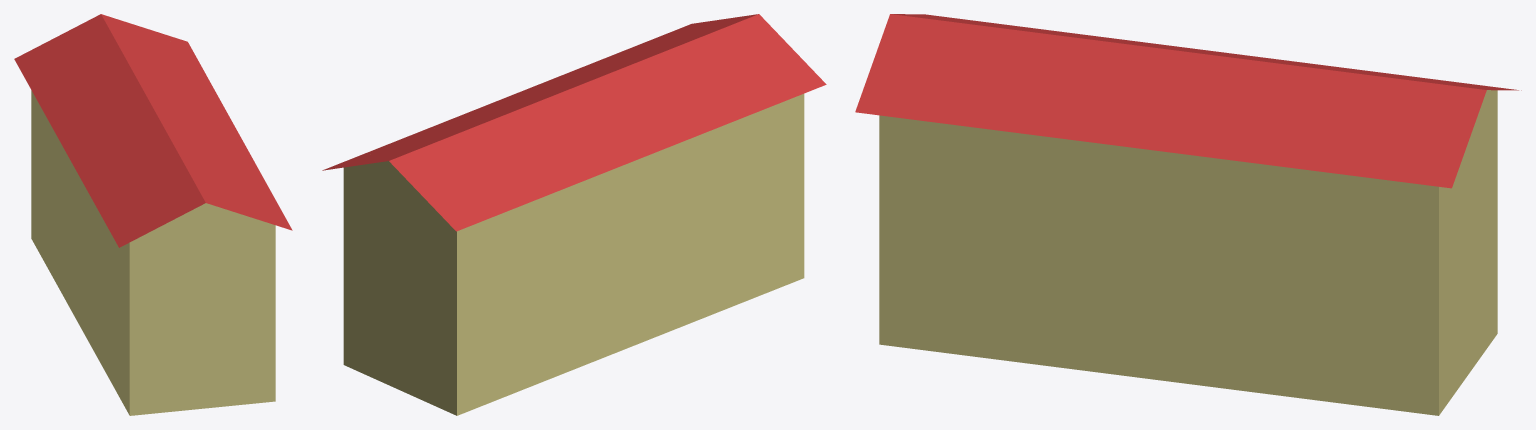
3 renders of one model, left to right at view 1: azimuth 30°, elevation 25°; view 2: azimuth 150°, elevation 25°; view 3: azimuth 270°, elevation 25°, orthographic. The views are drawn at different scales.
Parts seen in each view (by area): view 1: group_5, group_3, group_4; view 2: group_5, group_3, group_4; view 3: group_5, group_3, group_4.
Part boxes in pixels (bbox=[...]): group_5: bbox=[31, 90, 275, 415]; group_3: bbox=[14, 14, 292, 234]; group_4: bbox=[15, 14, 291, 247]; group_5: bbox=[343, 94, 804, 415]; group_3: bbox=[344, 14, 814, 231]; group_4: bbox=[322, 14, 826, 231]; group_5: bbox=[879, 90, 1497, 415]; group_3: bbox=[855, 14, 1521, 187]; group_4: bbox=[859, 14, 1486, 188].
Size of the model in its own units: 21.18 by 34.28 by 16.29.
